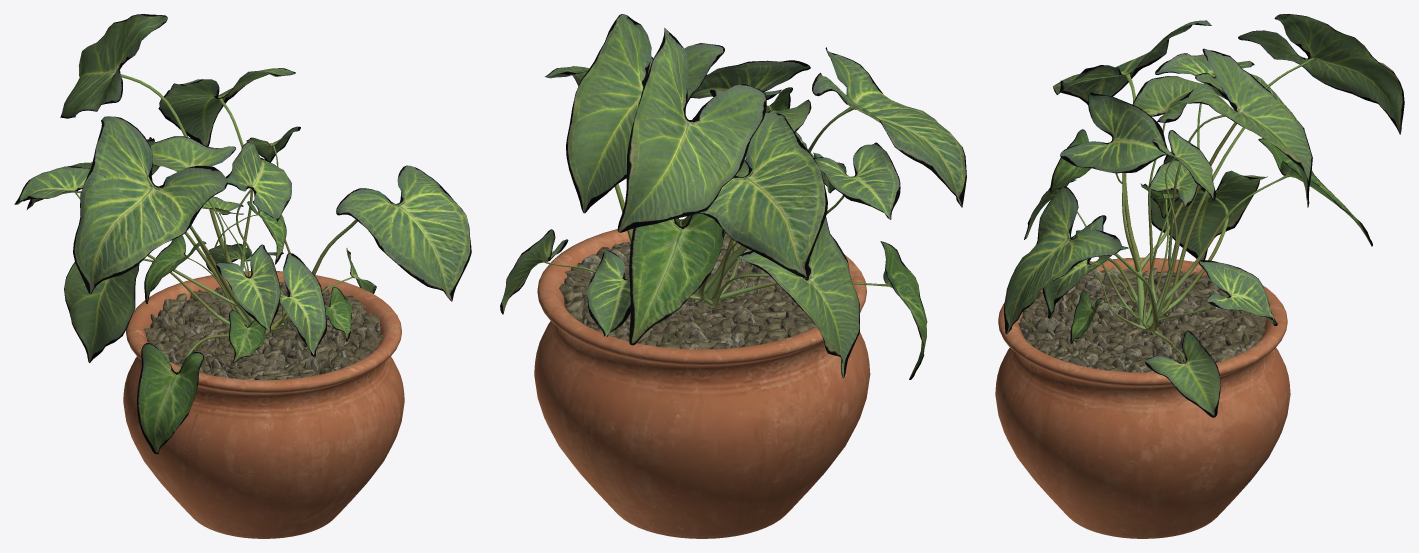
The model's file is potted_plant_02.glb.
3 renders of one model, left to right at view 1: azimuth 30°, elevation 25°; view 2: azimuth 150°, elevation 25°; view 3: azimuth 270°, elevation 25°, orthographic. The views are drawn at different scales.
Parts seen in each view (by area): view 1: potted_plant_02_leaves, potted_plant_02_pot; view 2: potted_plant_02_leaves, potted_plant_02_pot; view 3: potted_plant_02_pot, potted_plant_02_leaves.
Part boxes in pixels (left/top/right/bottom): potted_plant_02_leaves: left=14, top=14, right=471, bottom=454; potted_plant_02_pot: left=123, top=271, right=404, bottom=538; potted_plant_02_leaves: left=500, top=14, right=966, bottom=379; potted_plant_02_pot: left=534, top=219, right=870, bottom=538; potted_plant_02_pot: left=995, top=257, right=1290, bottom=538; potted_plant_02_leaves: left=1004, top=14, right=1404, bottom=417.
Size of the model in its own units: 0.7012 by 0.8412 by 0.6574.
Materials: 2 (2 with a texture image).
